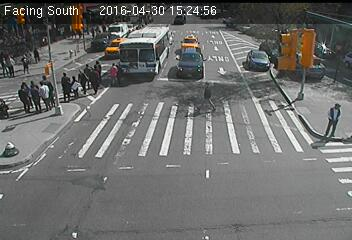neg: (265, 45, 280, 66), (333, 63, 344, 77), (57, 27, 64, 36)
pos: (322, 100, 350, 138), (194, 78, 219, 111), (53, 68, 77, 100), (84, 63, 106, 93), (30, 80, 52, 110), (33, 72, 55, 102), (12, 85, 33, 113), (1, 50, 21, 78), (77, 60, 97, 87), (22, 85, 42, 112), (13, 80, 33, 106), (103, 60, 122, 85), (64, 73, 83, 98), (15, 54, 31, 74), (73, 68, 88, 89), (29, 45, 43, 63), (93, 58, 104, 73), (87, 26, 97, 39), (100, 22, 108, 32), (94, 24, 101, 34), (29, 78, 35, 87)
